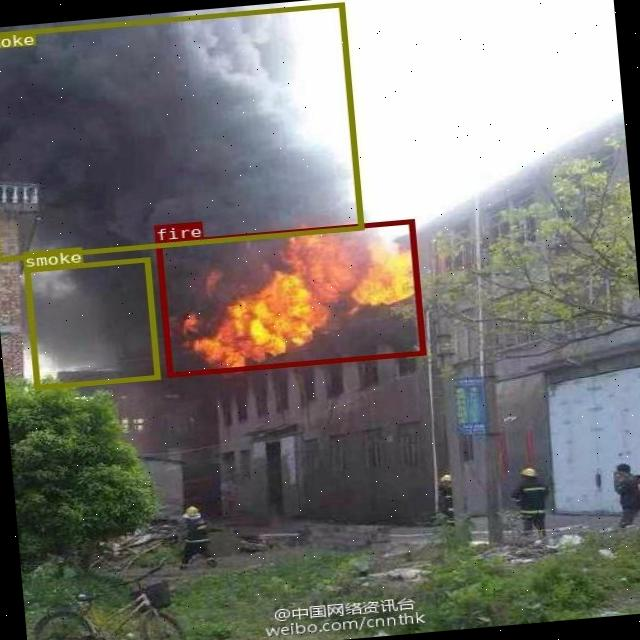fire: (154, 218, 426, 376)
smoke: (0, 1, 362, 261), (24, 256, 160, 388)
